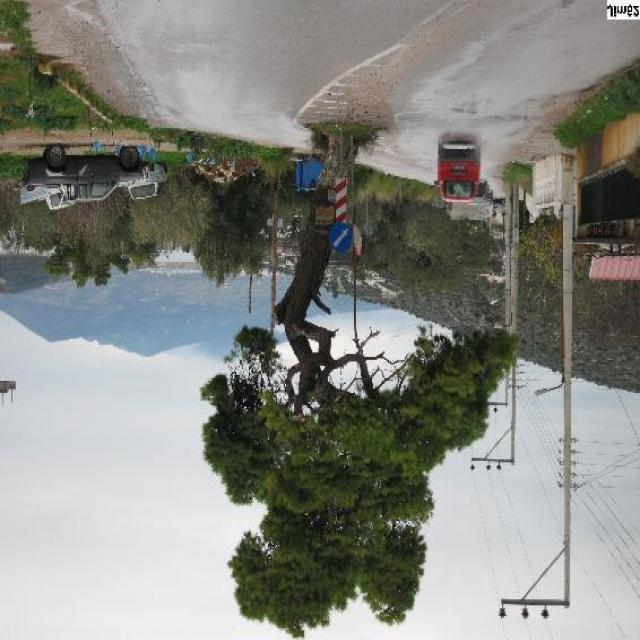tree: (205, 119, 490, 640)
